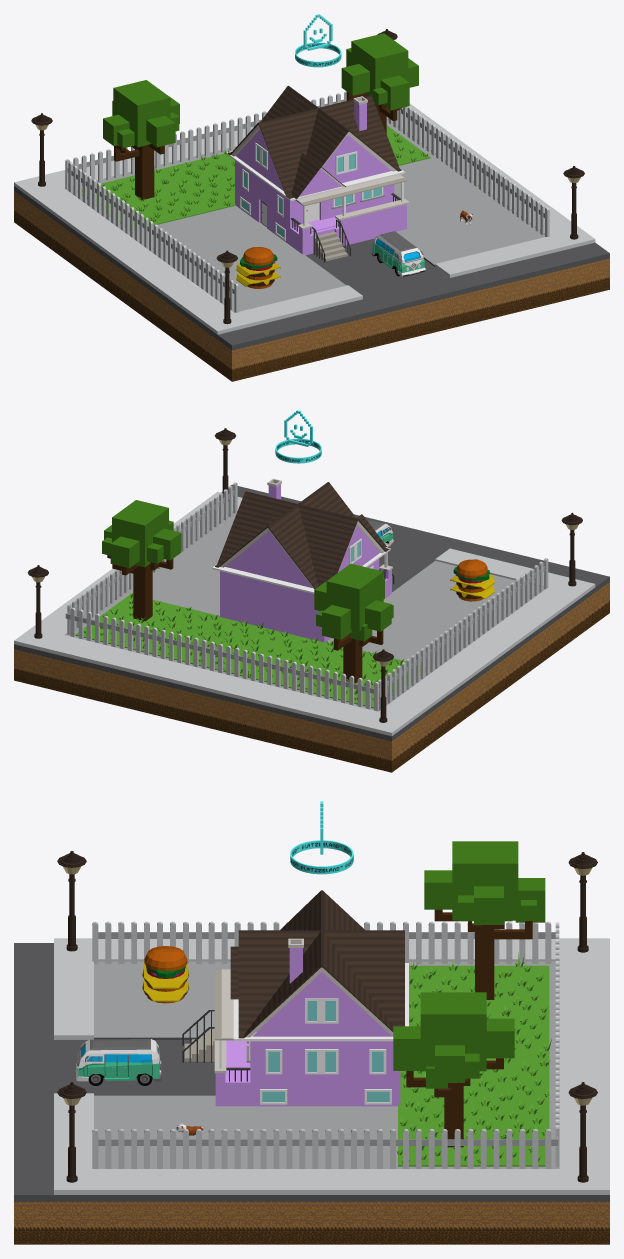
3 renders of one model, top to bottom at view 1: azimuth 30°, elevation 25°; view 2: azimuth 150°, elevation 25°; view 3: azimuth 270°, elevation 25°, orthographic. The views are drawn at different scales.
Visible parts, largest first — view 1: Cube.004, Cube.391, VEHICLES_VAN, OBJRANDOM_HAMBURGER, TYPE_PREMIUM; view 2: Cube.004, Cube.391, OBJRANDOM_HAMBURGER, TYPE_PREMIUM; view 3: Cube.004, Cube.391, VEHICLES_VAN, OBJRANDOM_HAMBURGER, TYPE_PREMIUM.
Boxes of the visible parts, <box> form: Cube.004: <box>14,29,609,381</box>; Cube.391: <box>226,86,409,262</box>; VEHICLES_VAN: <box>371,231,425,276</box>; OBJRANDOM_HAMBURGER: <box>236,247,280,288</box>; TYPE_PREMIUM: <box>295,14,341,67</box>; Cube.004: <box>14,428,609,772</box>; Cube.391: <box>212,478,394,642</box>; OBJRANDOM_HAMBURGER: <box>450,559,494,601</box>; TYPE_PREMIUM: <box>275,410,321,463</box>; Cube.004: <box>14,841,609,1244</box>; Cube.391: <box>182,890,408,1106</box>; VEHICLES_VAN: <box>76,1039,161,1085</box>; OBJRANDOM_HAMBURGER: <box>142,946,189,1003</box>; TYPE_PREMIUM: <box>290,801,353,874</box>.
Bounding box in the file's own units: 4000 × 2417 × 4000.
Materials: 43 (5 with a texture image).
